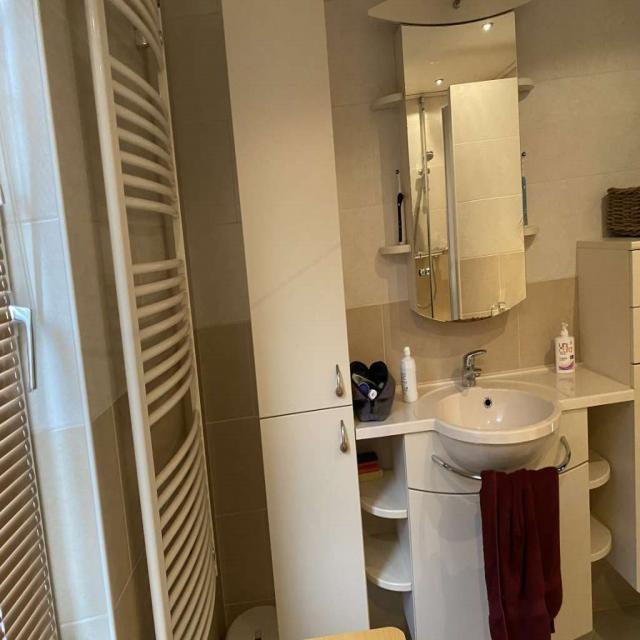designradiator: (85, 0, 219, 640)
wastafel: (400, 406, 588, 640), (417, 348, 563, 474)
